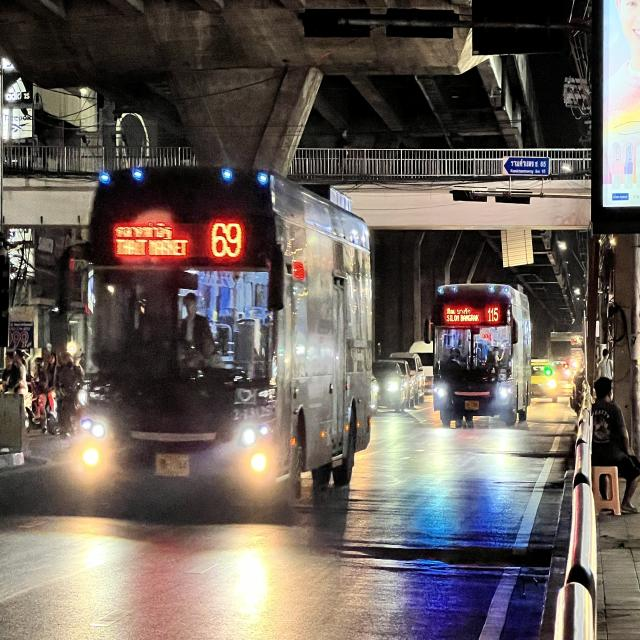Bus-Line-Number: (201, 216, 249, 263), (484, 303, 503, 324)
Destination-Sign-Normal: (107, 220, 199, 260), (443, 303, 482, 325)
TSB-Bus: (76, 156, 376, 514), (422, 280, 536, 430)
